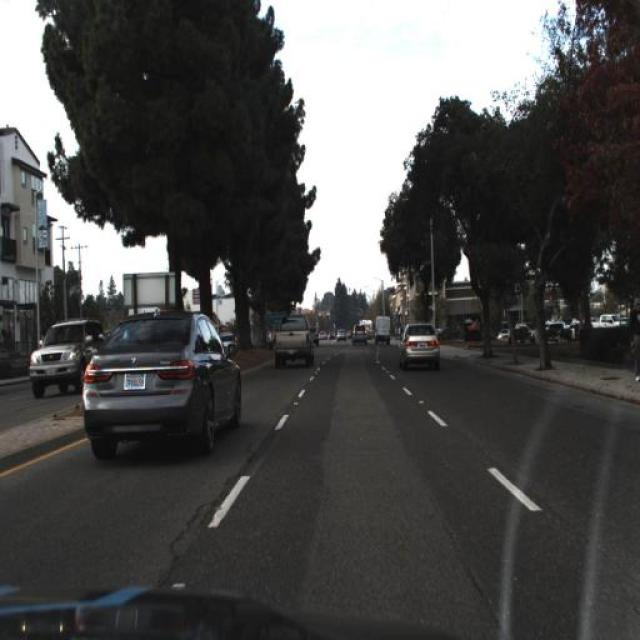car: (76, 299, 247, 469), (28, 316, 108, 400), (263, 305, 319, 377), (393, 314, 445, 378), (370, 307, 396, 349), (346, 318, 372, 352)
